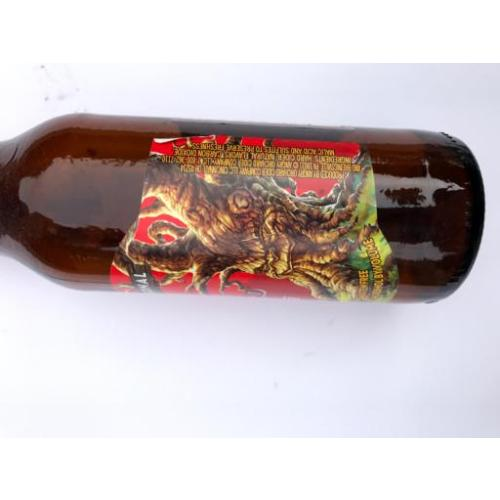glass: (0, 126, 484, 293)
